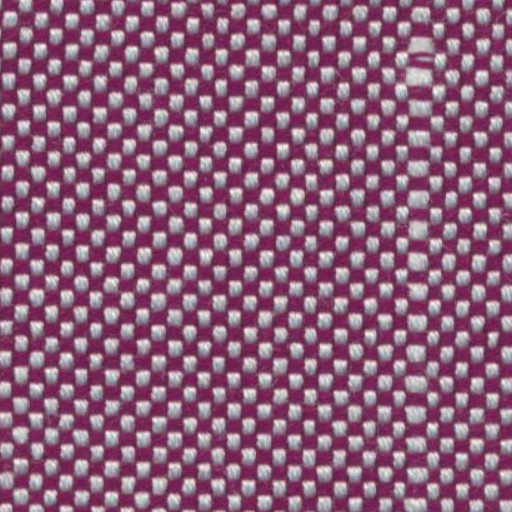DaiSha: (384, 14, 464, 480)
